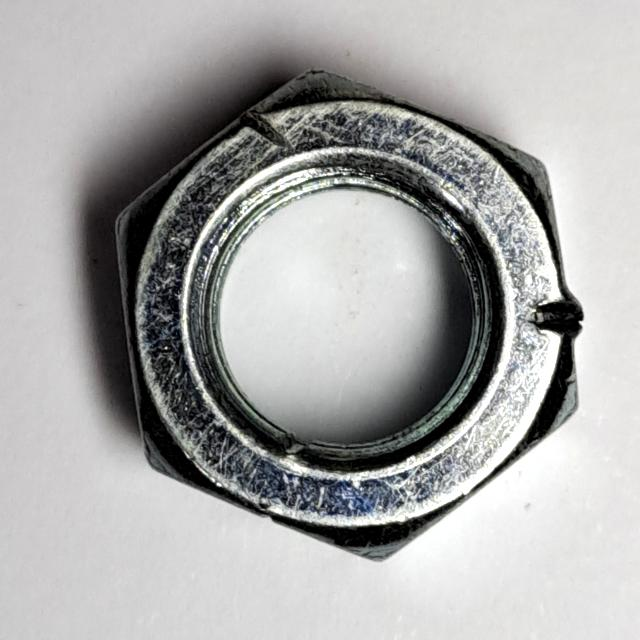Scratches: (94, 53, 592, 576)
